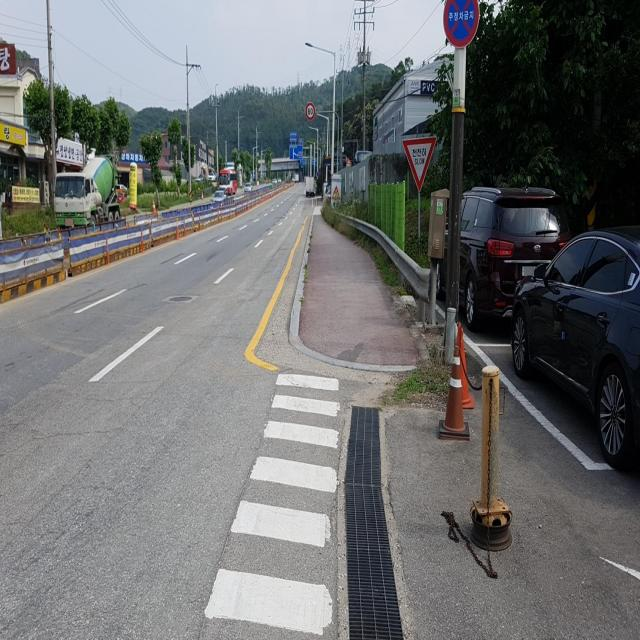횡단보도: (203, 369, 342, 640)
